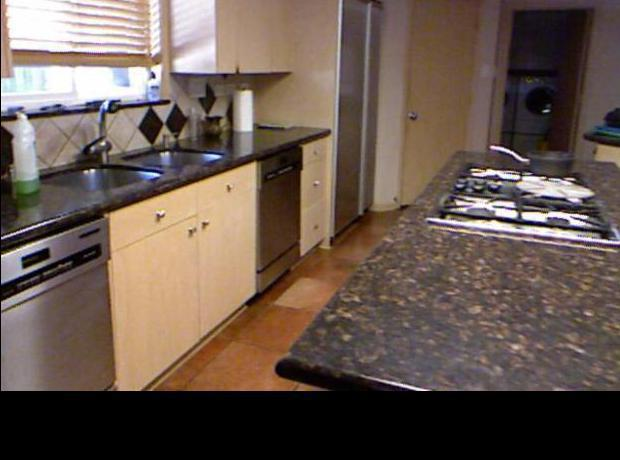Lavaplatos: (25, 98, 242, 225)
